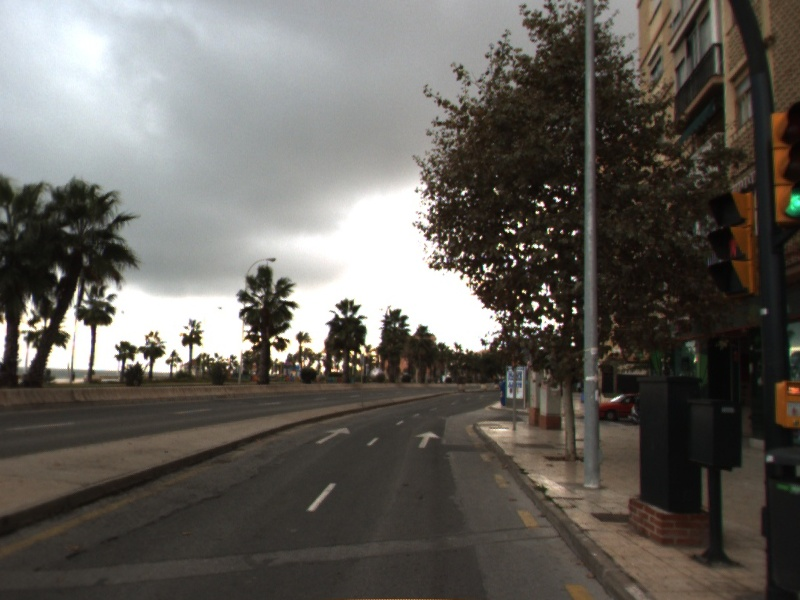STRAIGHT: (314, 426, 351, 445), (414, 430, 442, 449)
